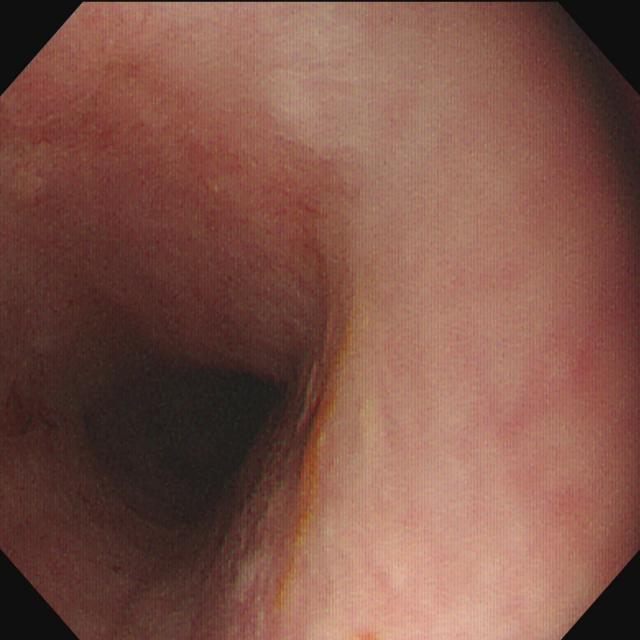E: (65, 311, 292, 557)
